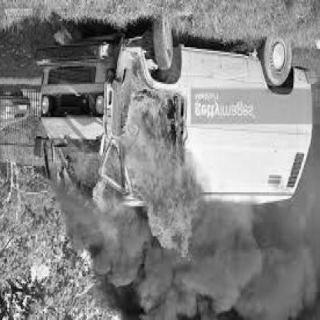Fire: (52, 78, 198, 270)
